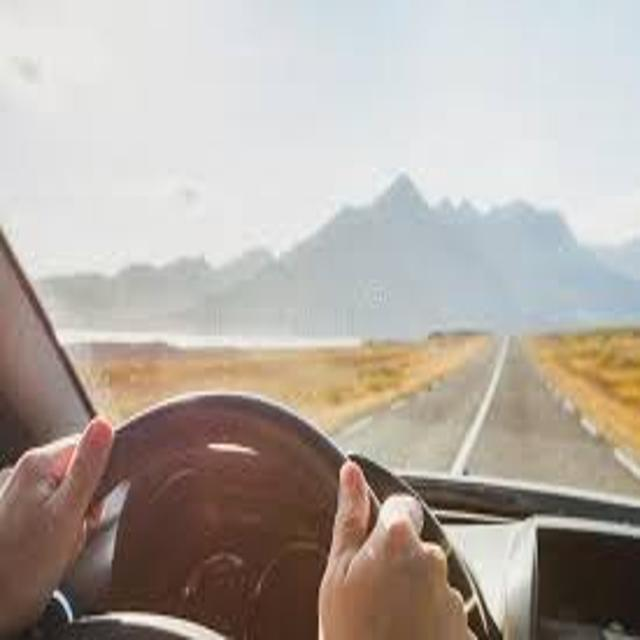car: (1, 224, 640, 640)
